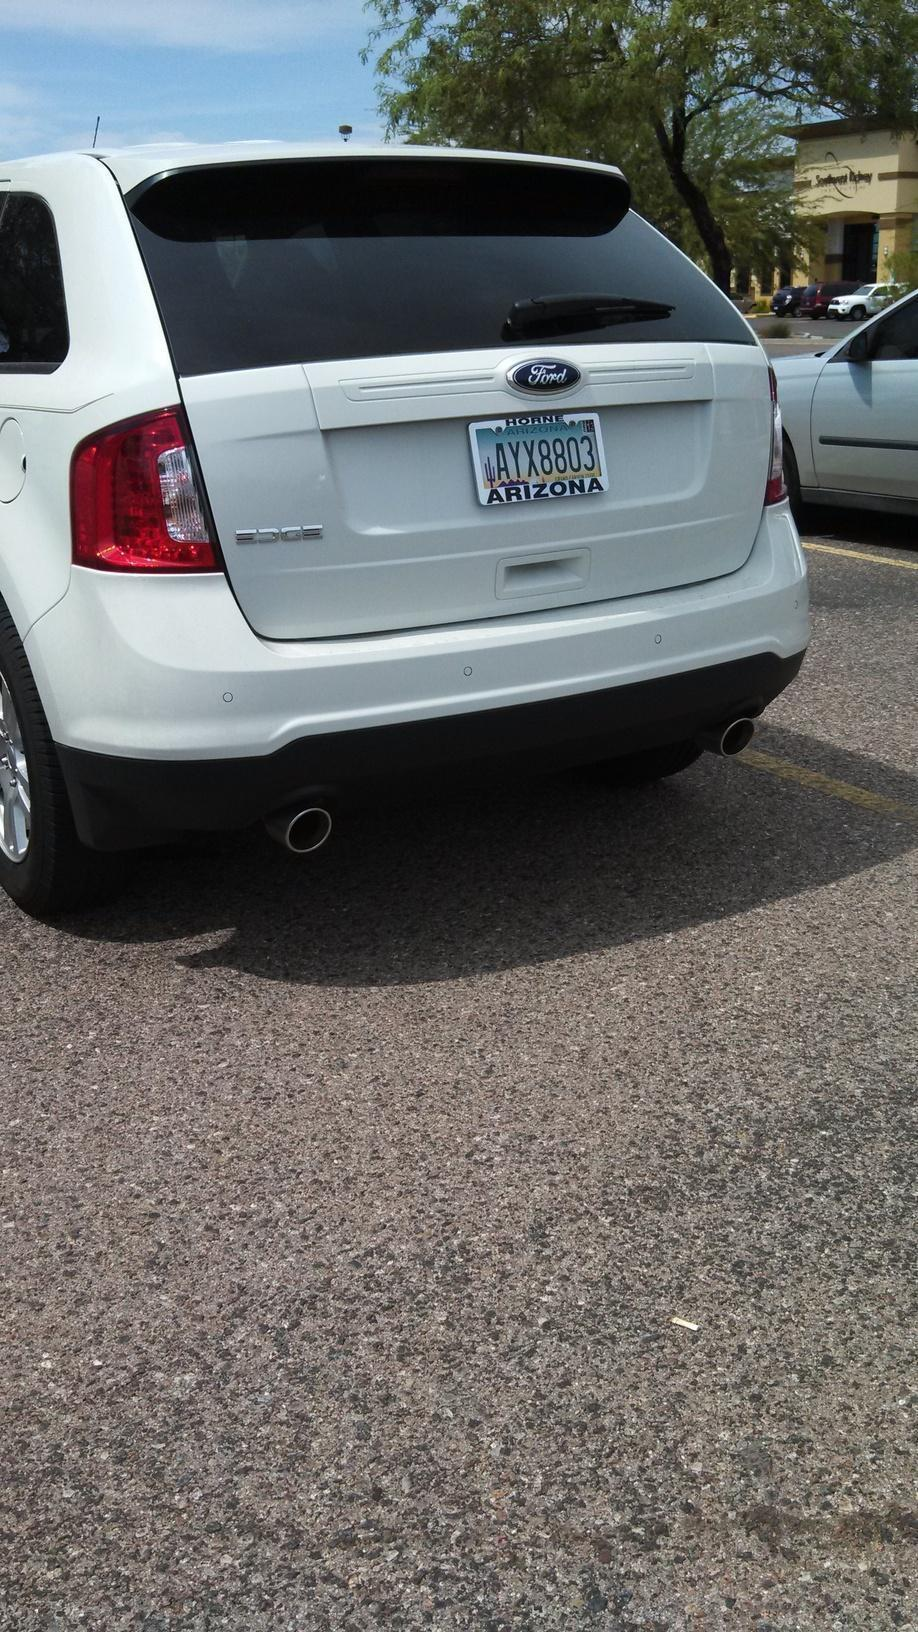placa de veiculo: (434, 401, 623, 521)
